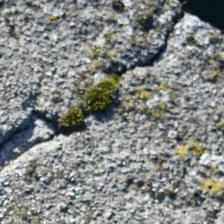Crack: (25, 37, 88, 107), (0, 136, 101, 178)
